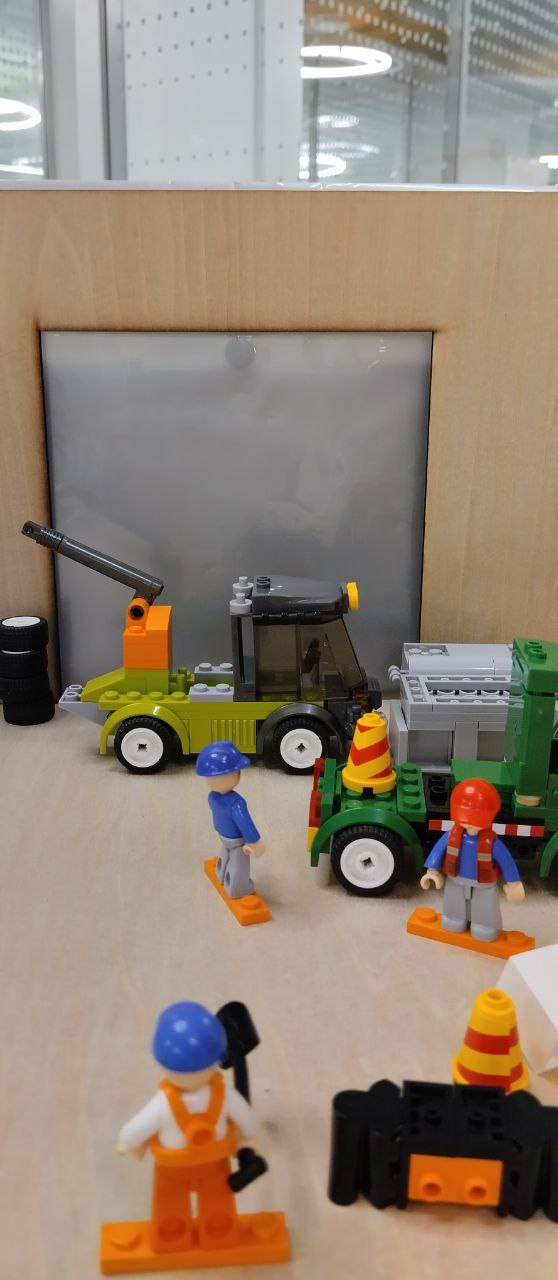Cone: (454, 989, 536, 1094), (338, 712, 400, 793)
Crane: (18, 520, 385, 773)
Object Black: (327, 1077, 558, 1216)
Object white: (495, 943, 557, 1072)
Truck: (309, 640, 558, 896)
